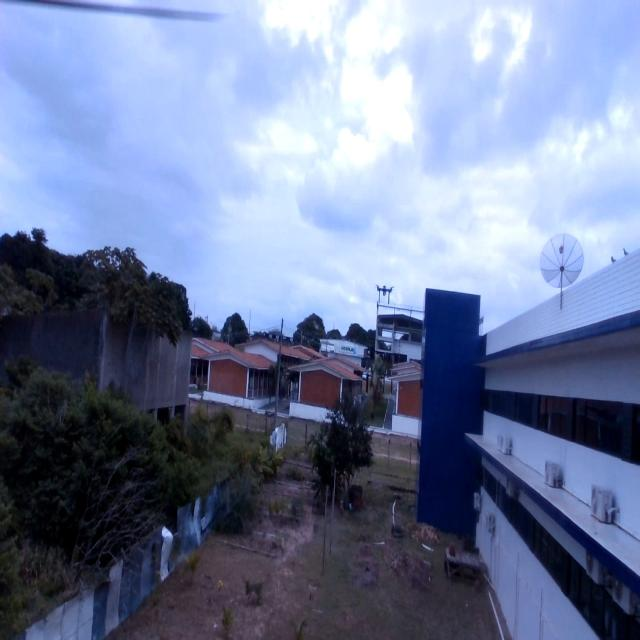-uav-: (370, 262, 399, 319)
